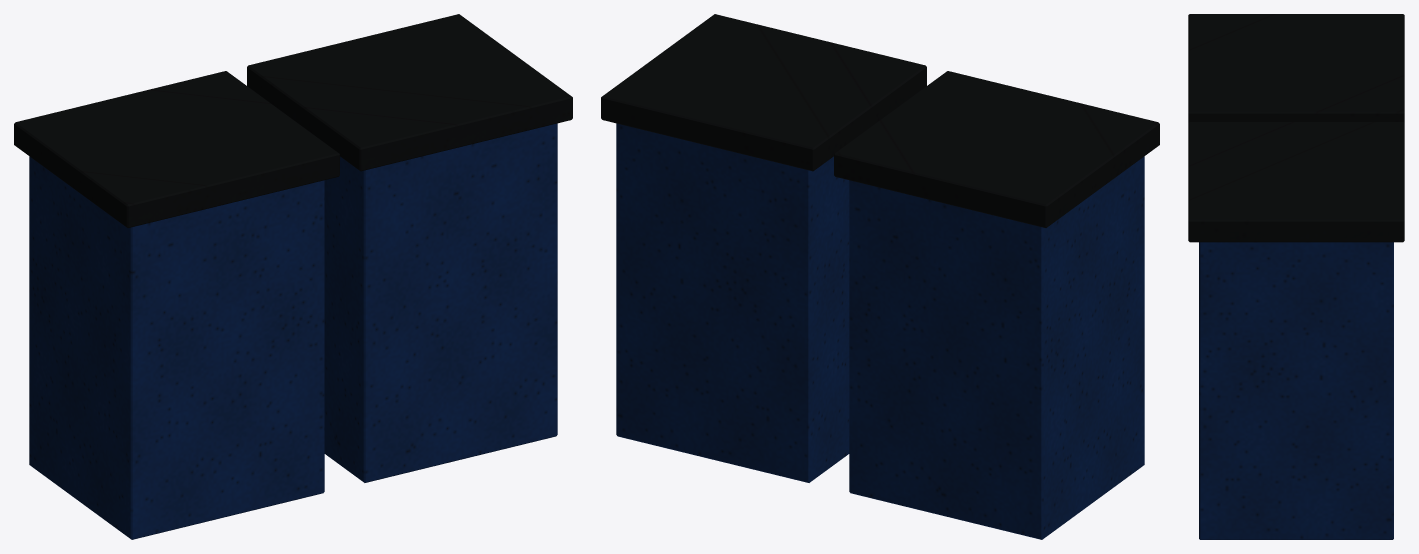
The model's file is PROP-35FB9A42BCE6_lod1.glb.
The picture shows the model from 3 angles, left to right: view 1: azimuth 30°, elevation 25°; view 2: azimuth 150°, elevation 25°; view 3: azimuth 270°, elevation 25°; orthographic projection. The views are drawn at different scales.
Parts seen in each view (by area): view 1: waste_container.002, bin_lid.002; view 2: waste_container.002, bin_lid.002; view 3: waste_container.002, bin_lid.002.
Boxes of the visible parts, box(x1,y1,x2,y2) form: waste_container.002: box(29, 123, 557, 539); bin_lid.002: box(14, 14, 572, 227); waste_container.002: box(616, 123, 1144, 539); bin_lid.002: box(601, 14, 1159, 227); waste_container.002: box(1199, 242, 1393, 539); bin_lid.002: box(1188, 14, 1404, 242).
Bounding box in the file's own units: 1.38 × 1.01 × 0.61.
3 materials, 3 textured.
